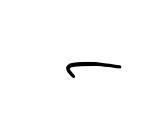minus: (66, 62, 122, 78)
